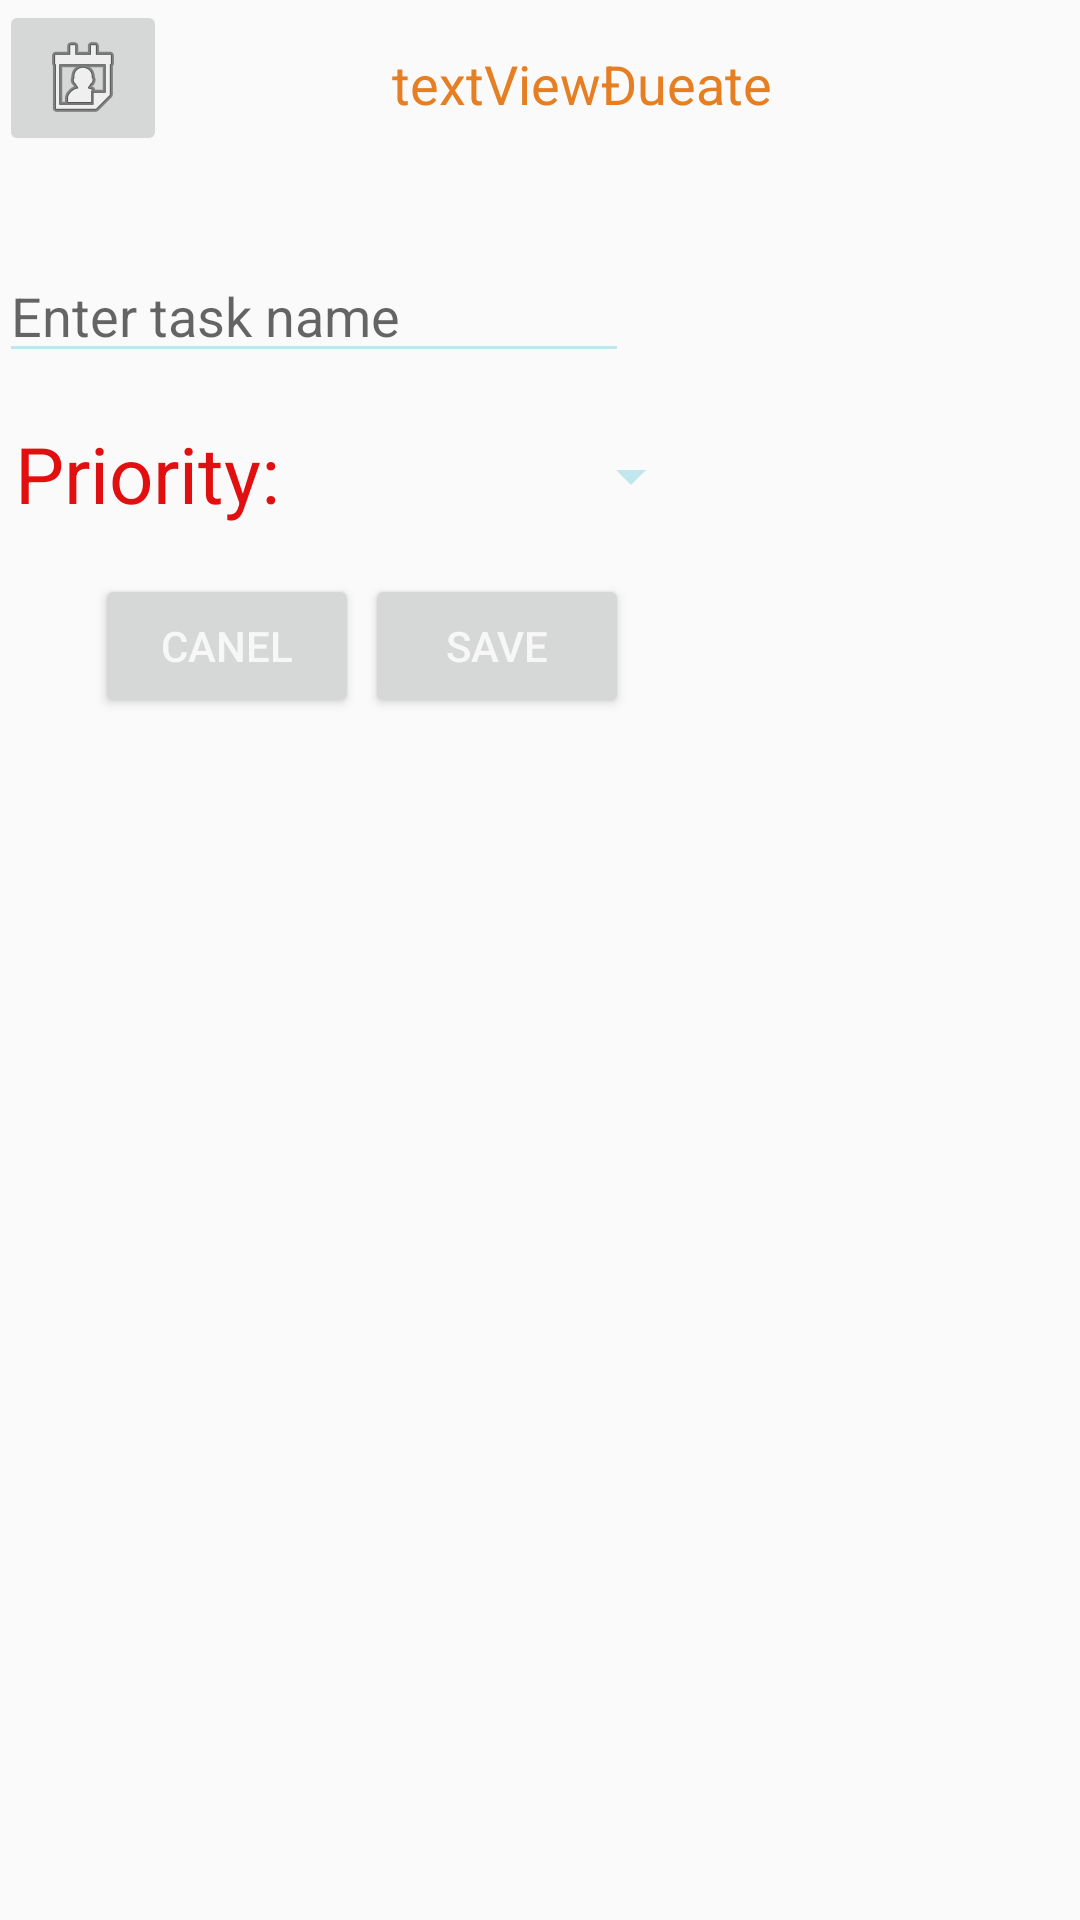

Icon click points for this 1080px x 1920px phone screenshot, format (x=x, y=y):
calendar: (x=83, y=78)
